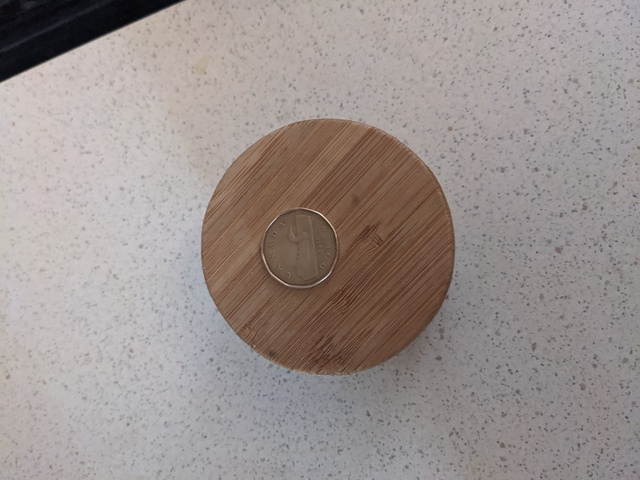loonie: (259, 209, 343, 289)
